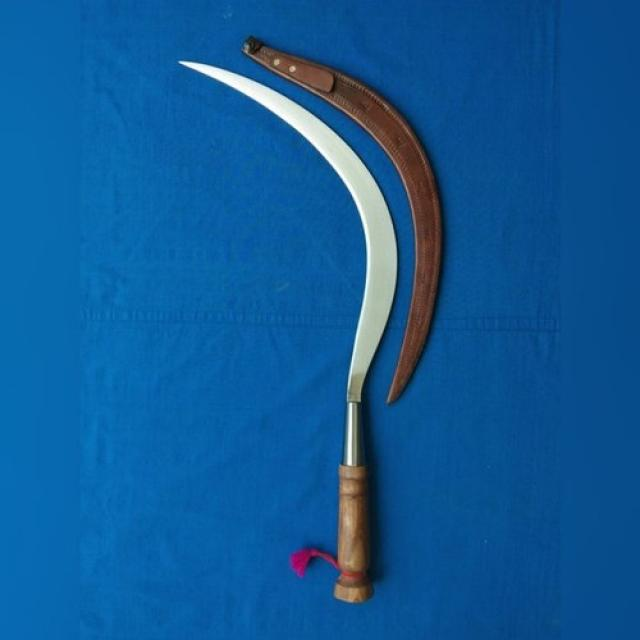Celurit: (177, 58, 402, 601)
